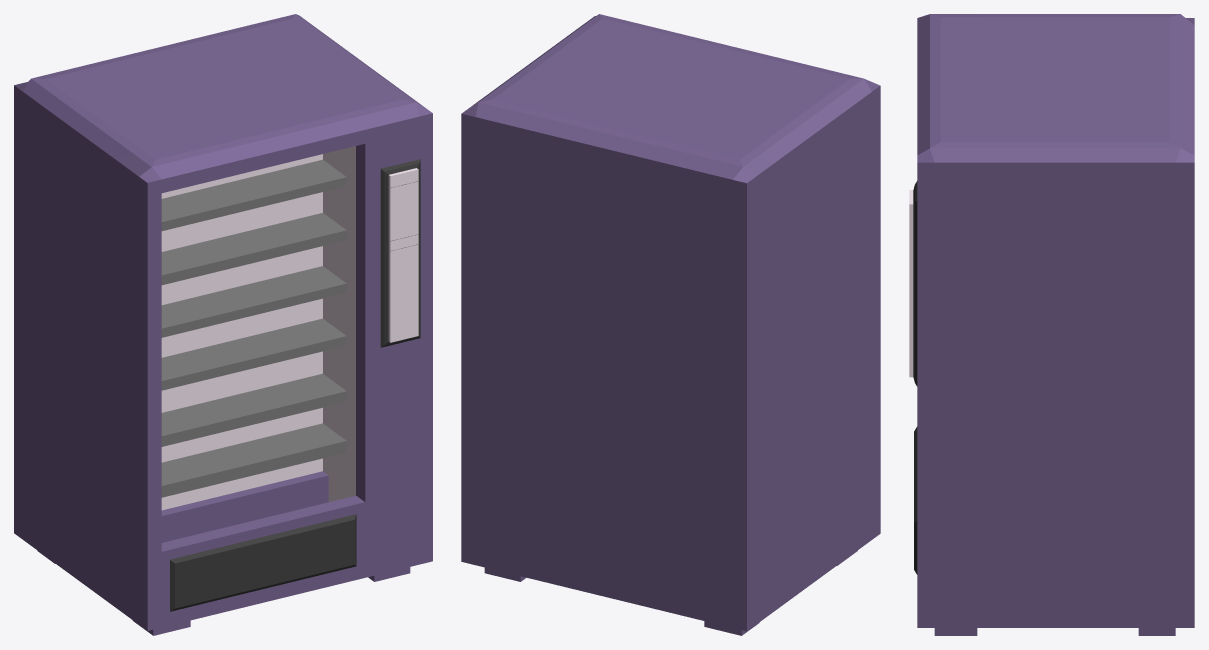
Rendered from Venting.fbx.
3 renders of one model, left to right at view 1: azimuth 30°, elevation 25°; view 2: azimuth 150°, elevation 25°; view 3: azimuth 270°, elevation 25°, orthographic. The views are drawn at different scales.
Parts seen in each view (by area): view 1: Cube; view 2: Cube; view 3: Cube.
Part boxes in pixels (<box>): Cube: <box>14,14,432,635</box>; Cube: <box>461,14,880,635</box>; Cube: <box>909,14,1194,635</box>.
Size of the model in its own units: 200 by 317 by 167.
